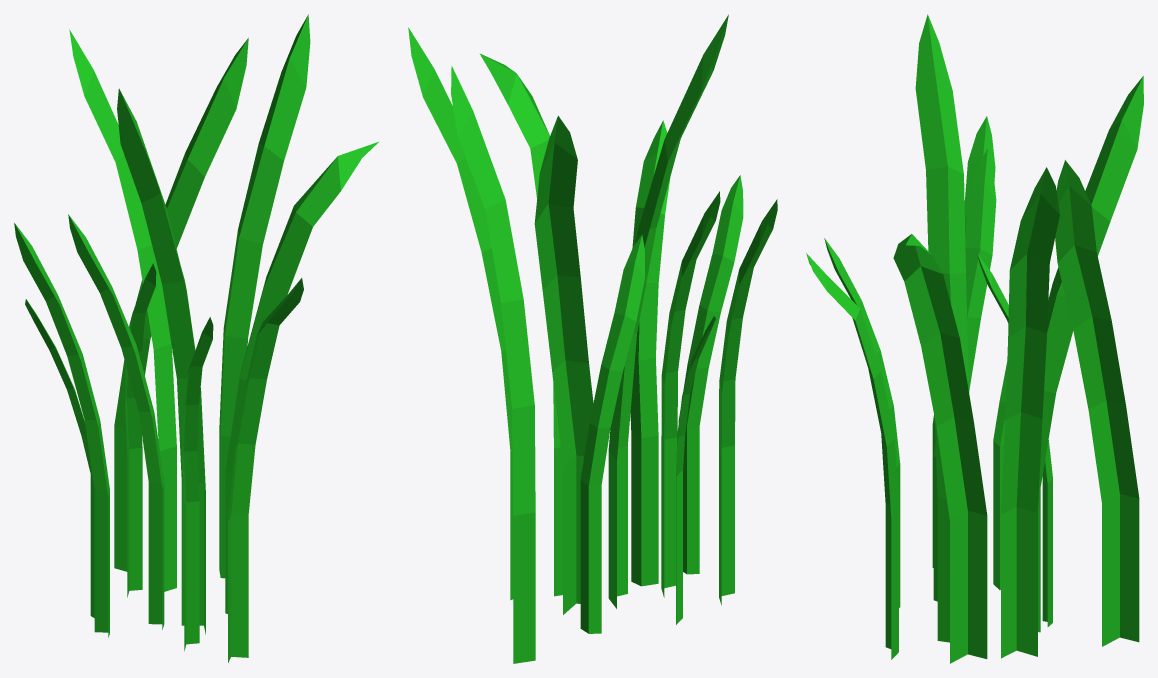
Rendered from Grass.fbx.
3 views of the same model, side by side, from view 1: azimuth 30°, elevation 25°; view 2: azimuth 150°, elevation 25°; view 3: azimuth 270°, elevation 25° (orthographic). The views are drawn at different scales.
Visible parts, largest first — view 1: Grass.001; view 2: Grass.001; view 3: Grass.001.
Part boxes in pixels (x1,y1,x2,y2): Grass.001: (14,14,378,662); Grass.001: (408,14,777,663); Grass.001: (806,14,1143,663).
Size of the model in its own units: 63.04 by 108 by 55.99.
